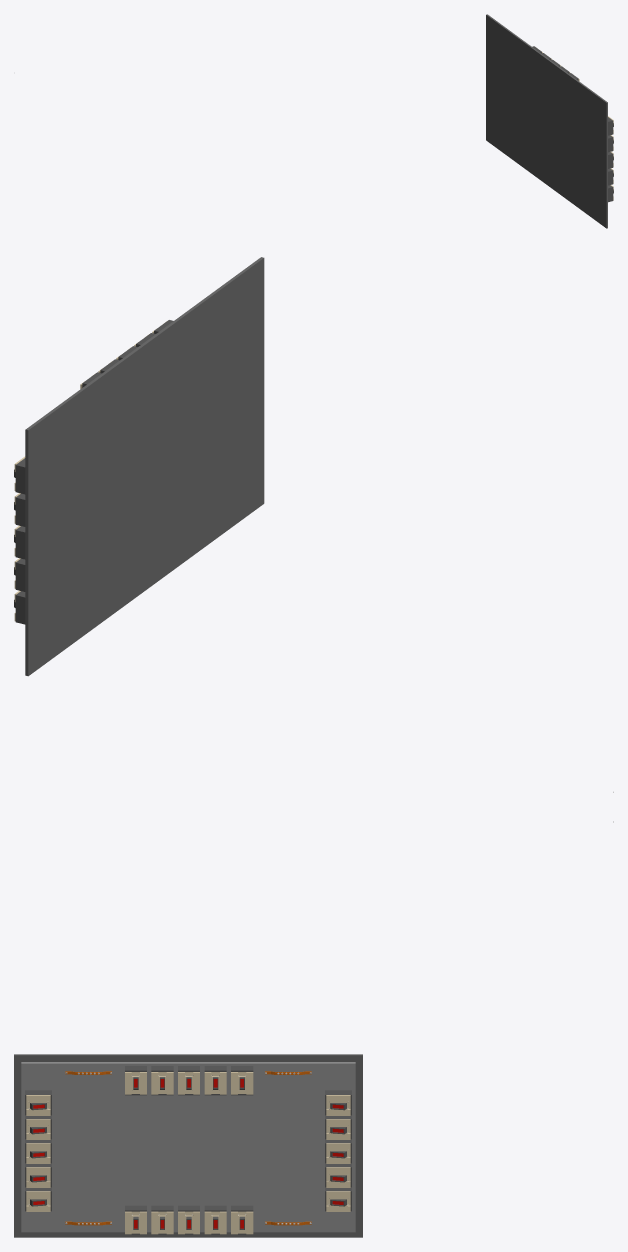
Rendered from Capstone_electricwireMINIGAME.fbx.
3 renders of one model, top to bottom at view 1: azimuth 30°, elevation 25°; view 2: azimuth 150°, elevation 25°; view 3: azimuth 270°, elevation 25°, orthographic. The views are drawn at different scales.
Parts seen in each view (by area): view 1: Plane; view 2: Plane; view 3: Plane, Cube.014, Cube.019, Cube.002, Cube.010, Cube.006, Cube.008, Cube.012, Cube.013, Cube.004, Cube.001, Cube.005 (+10 smaller).
Boxes of the visible parts, x1=… form: Plane: x1=486, y1=14, x2=607, y2=228; Plane: x1=25, y1=257, x2=264, y2=676; Plane: x1=14, y1=1054, x2=362, y2=1237; Cube.014: x1=25, y1=1090, x2=51, y2=1115; Cube.019: x1=325, y1=1090, x2=351, y2=1115; Cube.002: x1=151, y1=1066, x2=173, y2=1095; Cube.010: x1=151, y1=1205, x2=173, y2=1234; Cube.006: x1=204, y1=1066, x2=226, y2=1095; Cube.008: x1=231, y1=1066, x2=253, y2=1095; Cube.012: x1=204, y1=1205, x2=226, y2=1234; Cube.013: x1=231, y1=1205, x2=253, y2=1234; Cube.004: x1=65, y1=1071, x2=311, y2=1225; Cube.001: x1=125, y1=1066, x2=146, y2=1095; Cube.005: x1=178, y1=1066, x2=199, y2=1095.
Size of the model in its own units: 4945 by 1488 by 4443.
